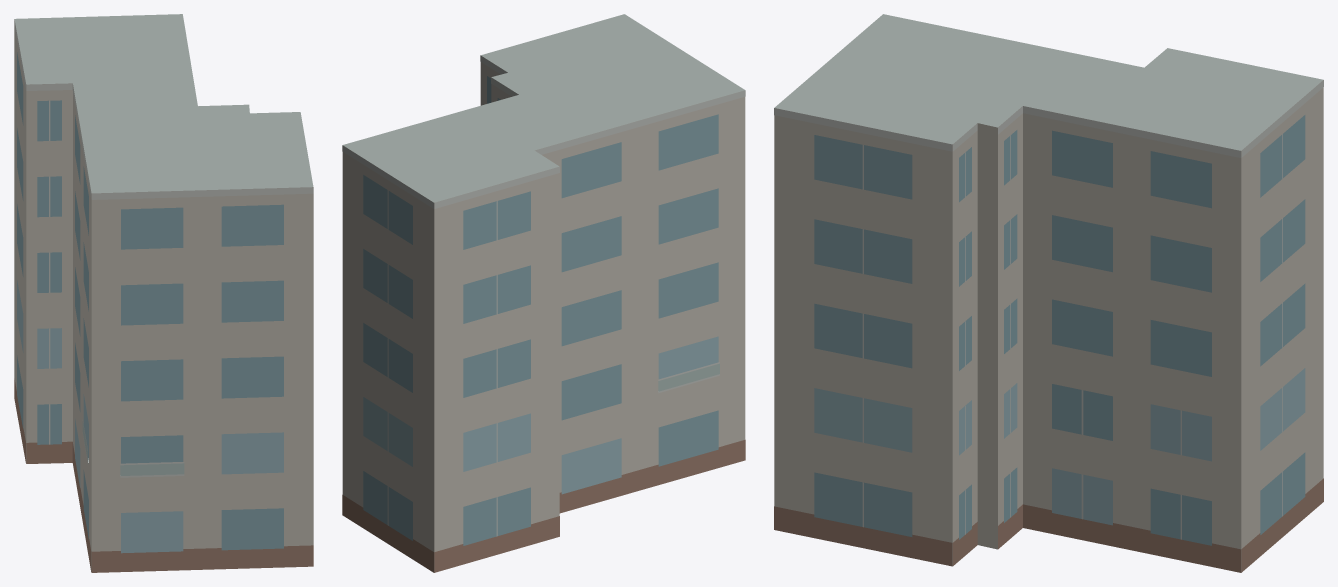
Rendered from survey-upis-32723171.glb.
3 renders of one model, left to right at view 1: azimuth 30°, elevation 25°; view 2: azimuth 150°, elevation 25°; view 3: azimuth 270°, elevation 25°, orthographic. The views are drawn at different scales.
Parts seen in each view (by area): view 1: survey-upis-32723171.tmp; view 2: survey-upis-32723171.tmp; view 3: survey-upis-32723171.tmp.
Part boxes in pixels (<box>): survey-upis-32723171.tmp: <box>14,14,313,572</box>; survey-upis-32723171.tmp: <box>342,14,745,572</box>; survey-upis-32723171.tmp: <box>774,14,1323,572</box>.
Size of the model in its own units: 9.82 by 14.1 by 16.66.
